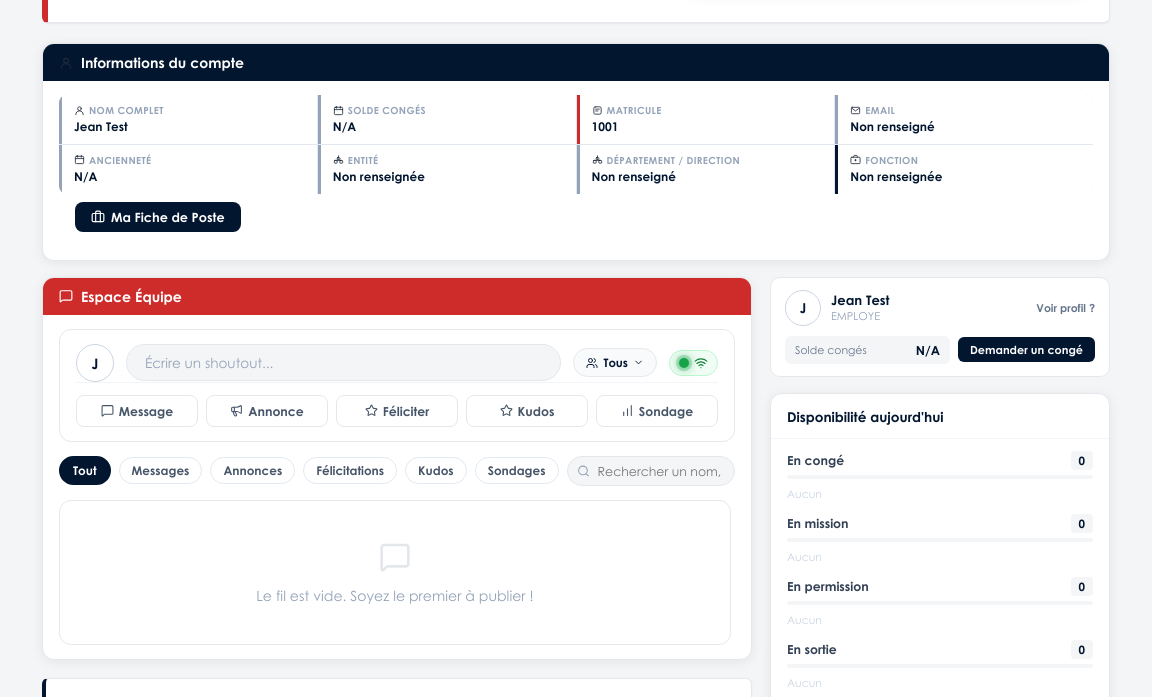
Home — Demander un congé modal › shows error message when API fails
(page scrolled)
Click the button "Demander un congé" at (1026, 350), box [958,337,1095,362]
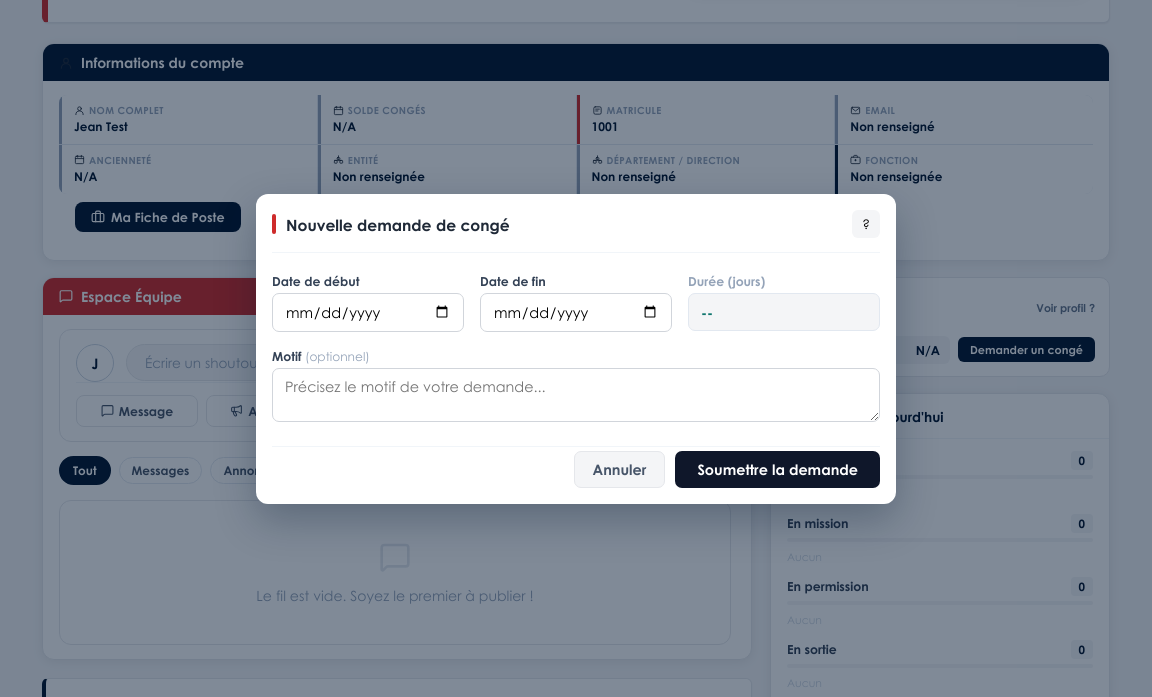
Result: the text "Nouvelle demande de congé" is shown at [286,214,510,234]
Type "2026-04-01" into the date field below "Date de début" at (368, 312), box [272,293,464,332]
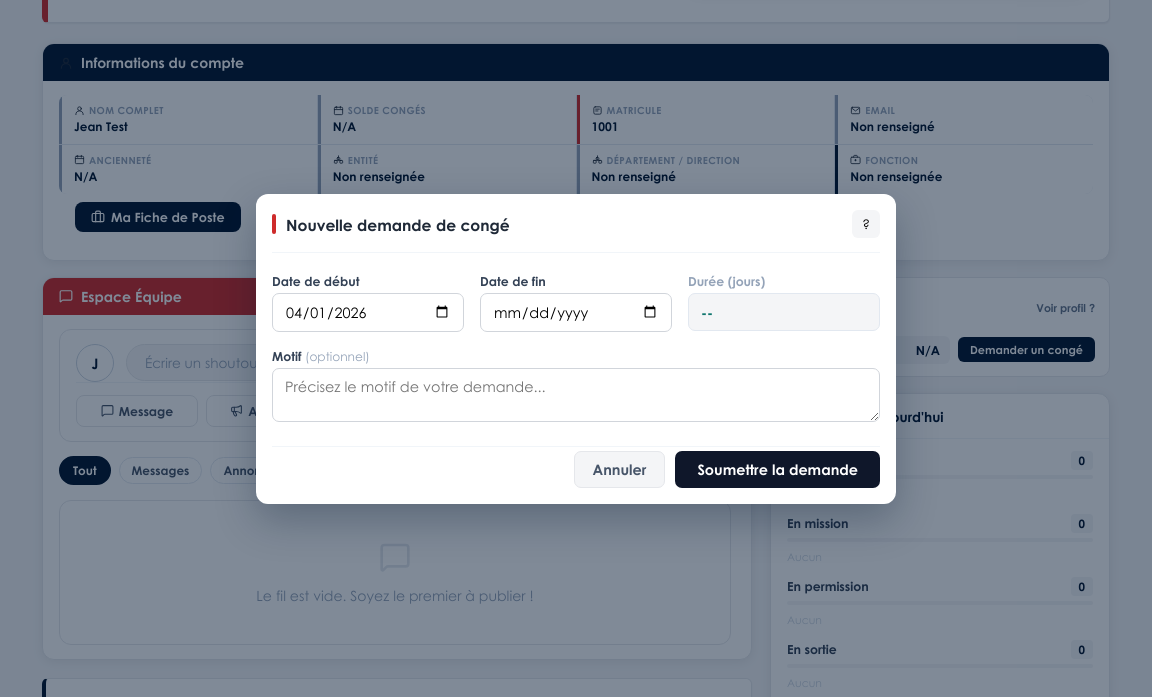
Type "2026-04-05" into the date field below "Date de fin" at (576, 312), box [480,293,672,332]
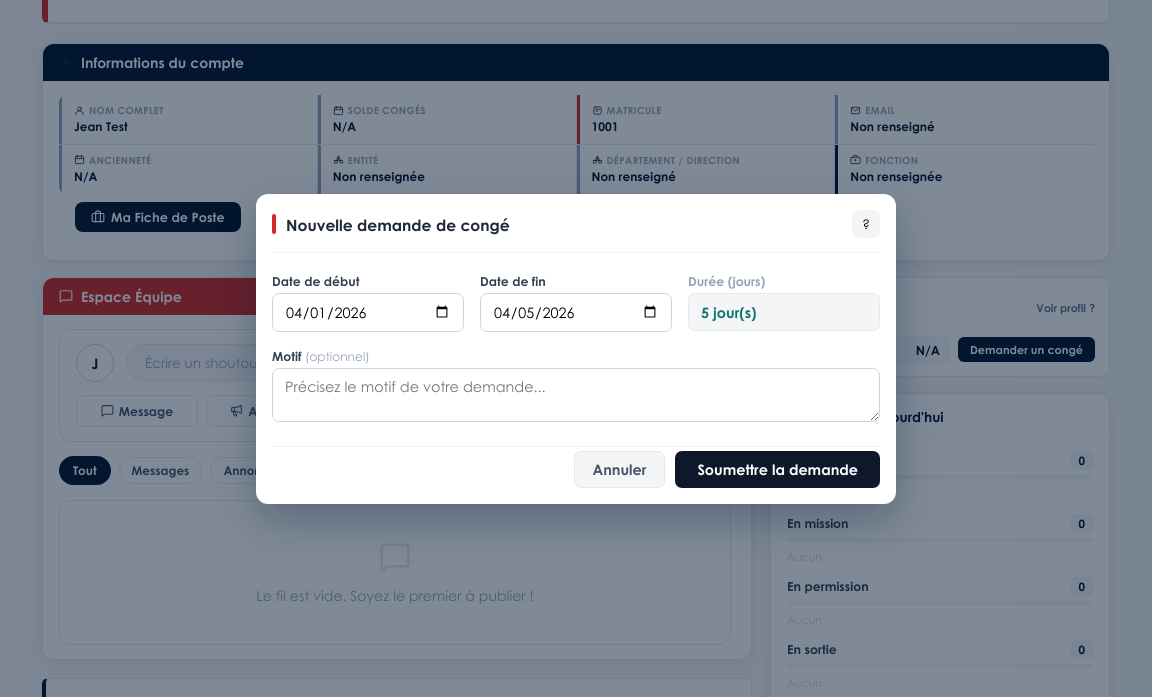
Submit the form, box [272,273,880,488]
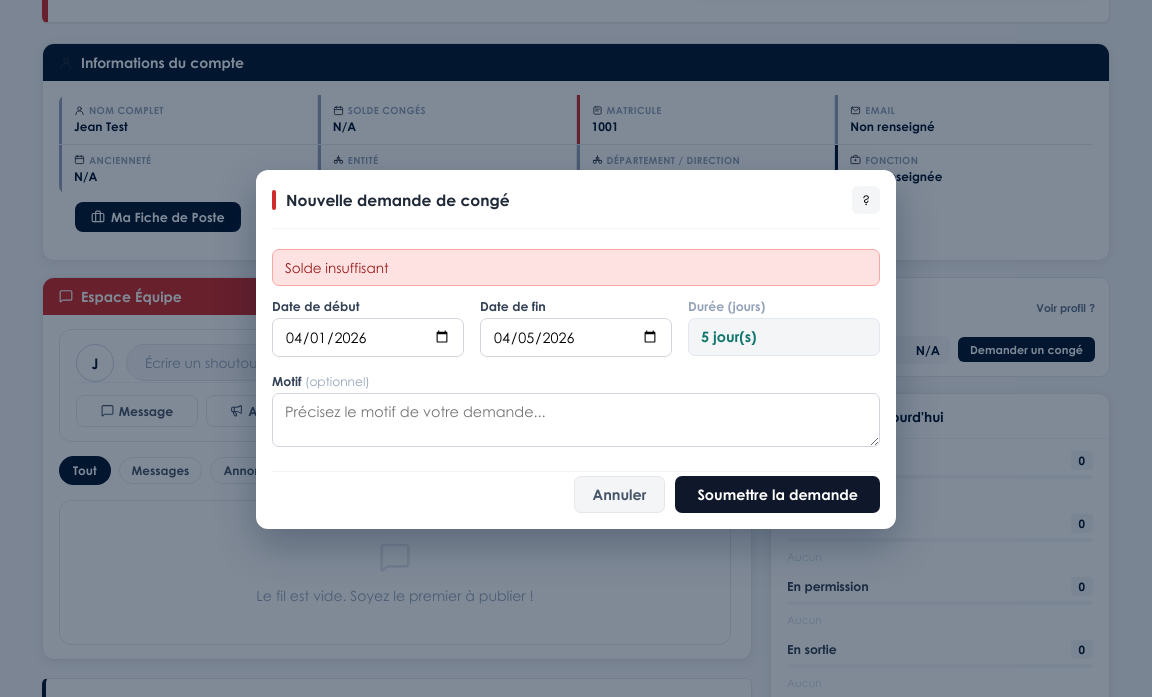
Result: the text "Solde insuffisant" is shown at [272,248,880,286]
